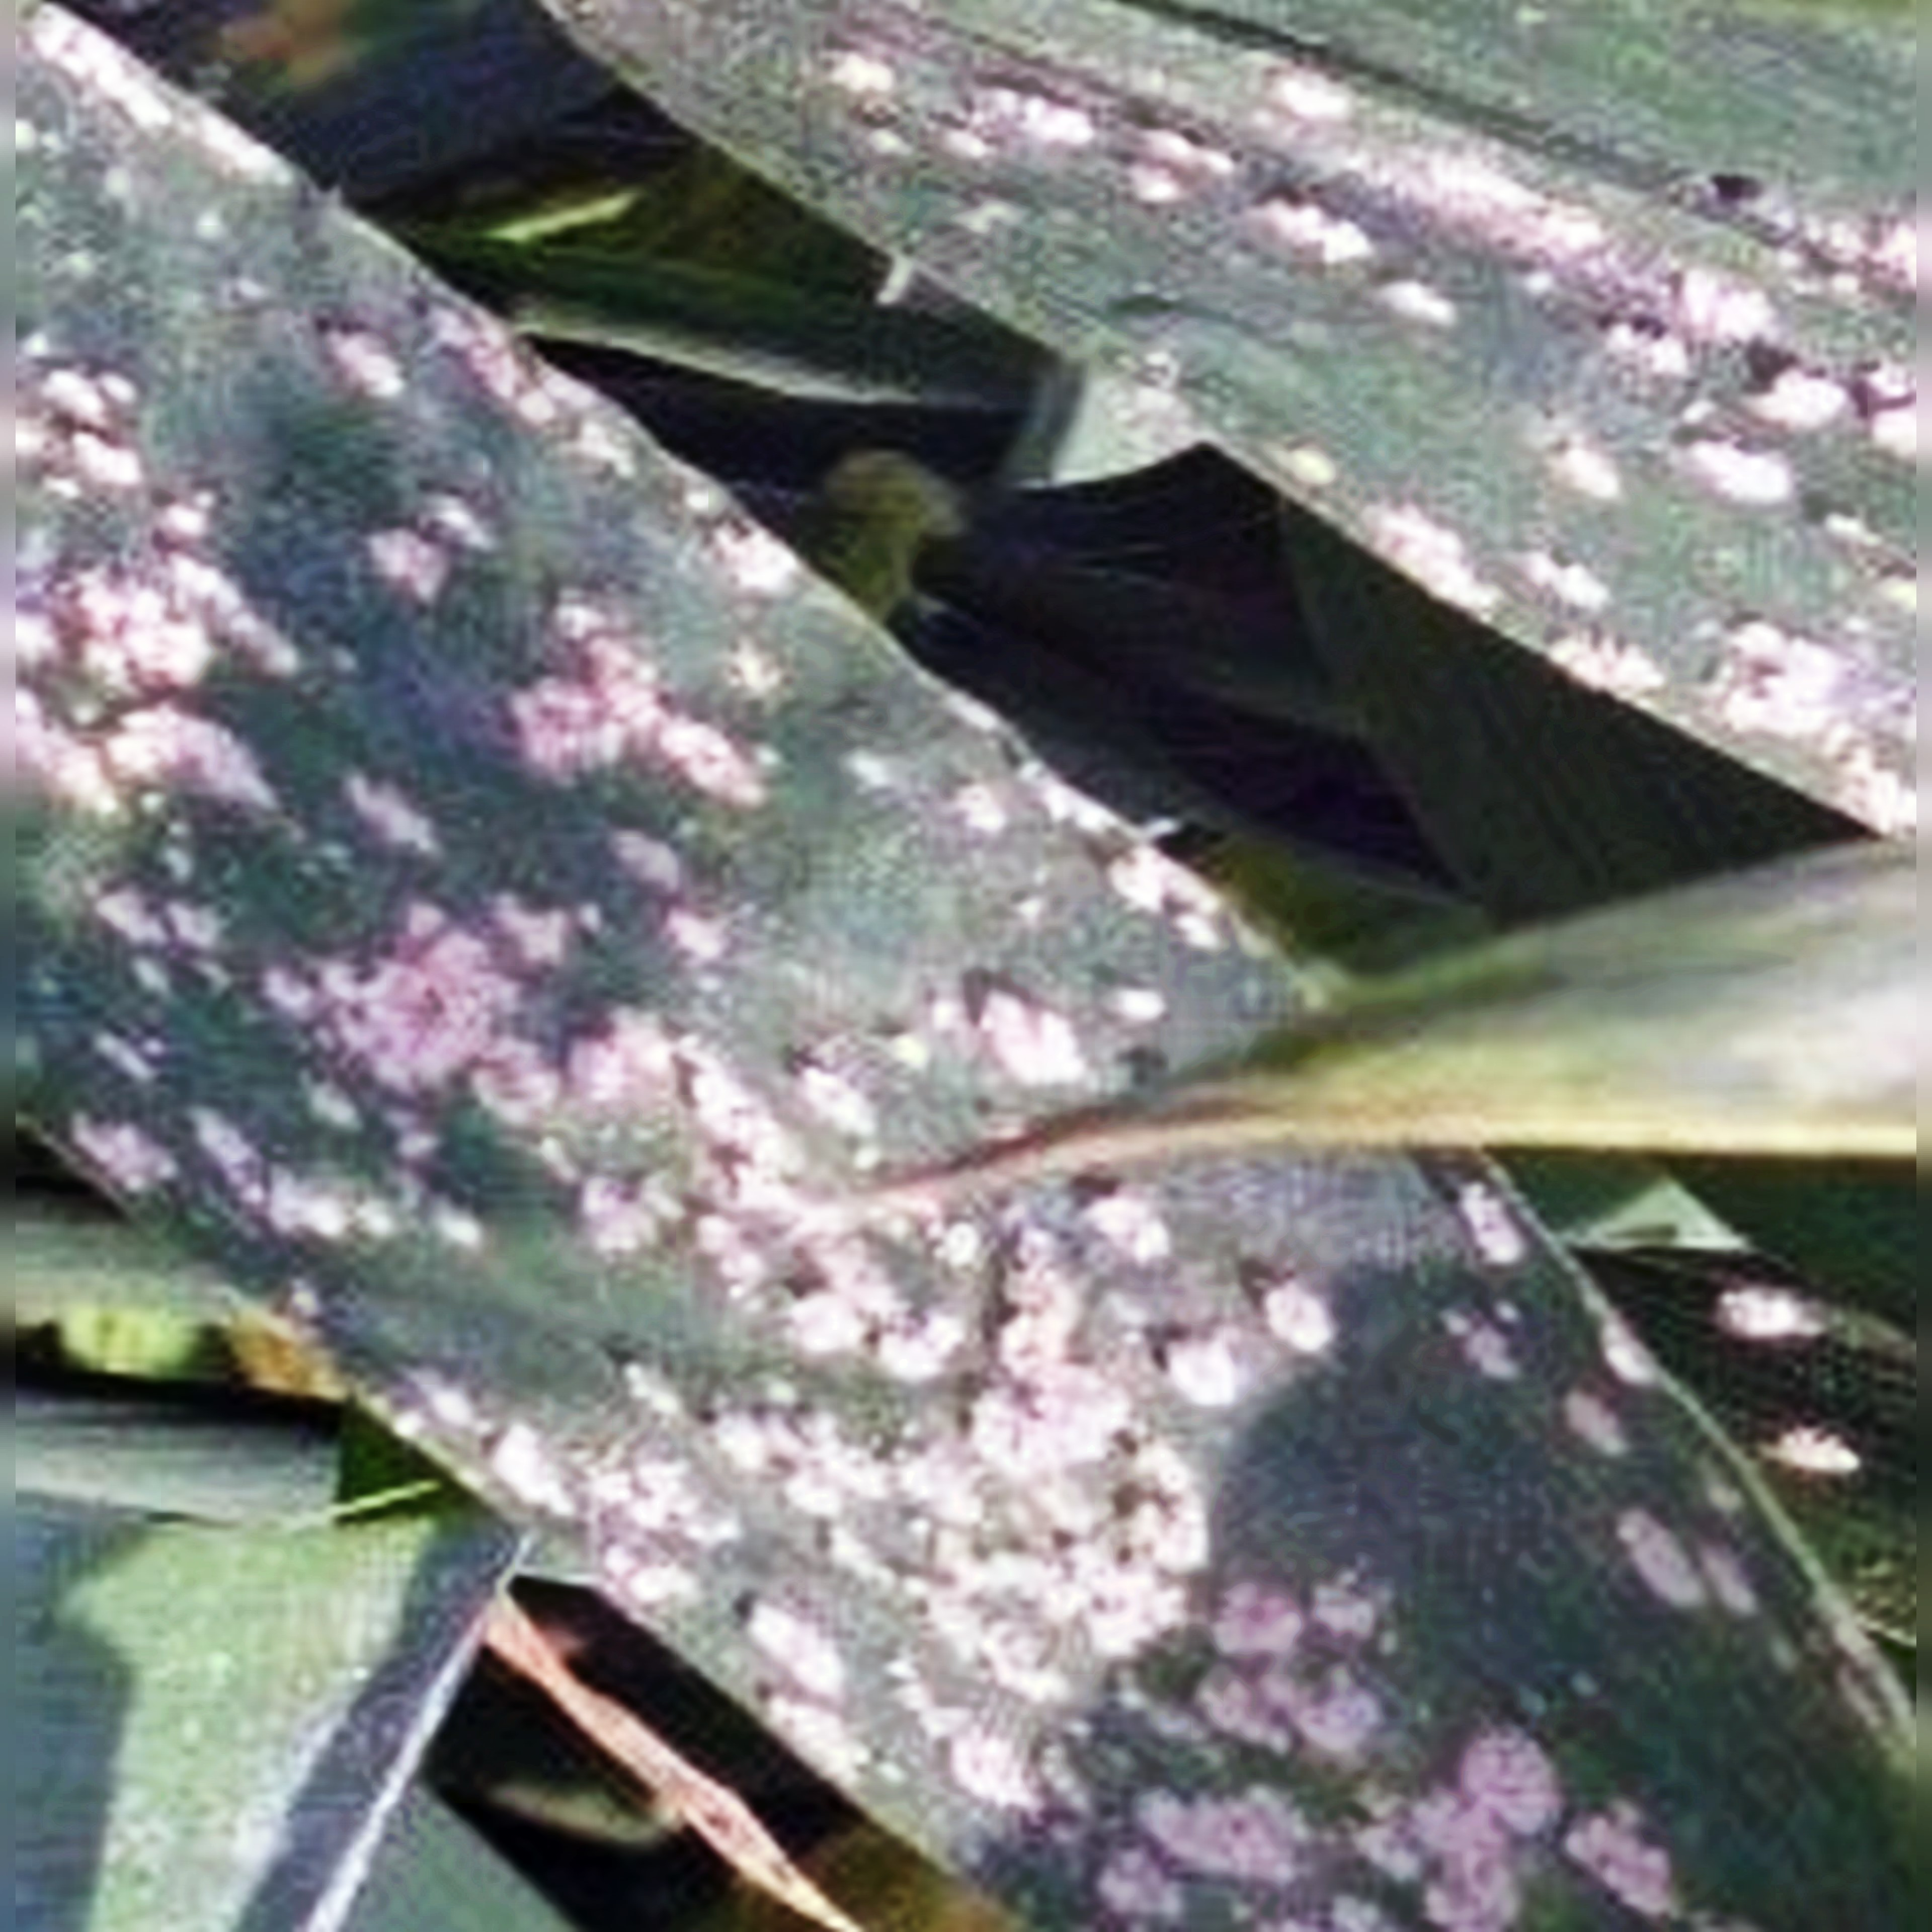Powdery Mildew: (34, 343, 1523, 1886)
